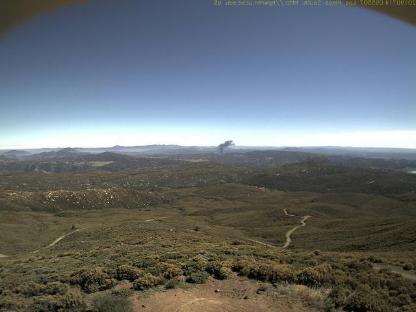smoke: (218, 136, 238, 156)
